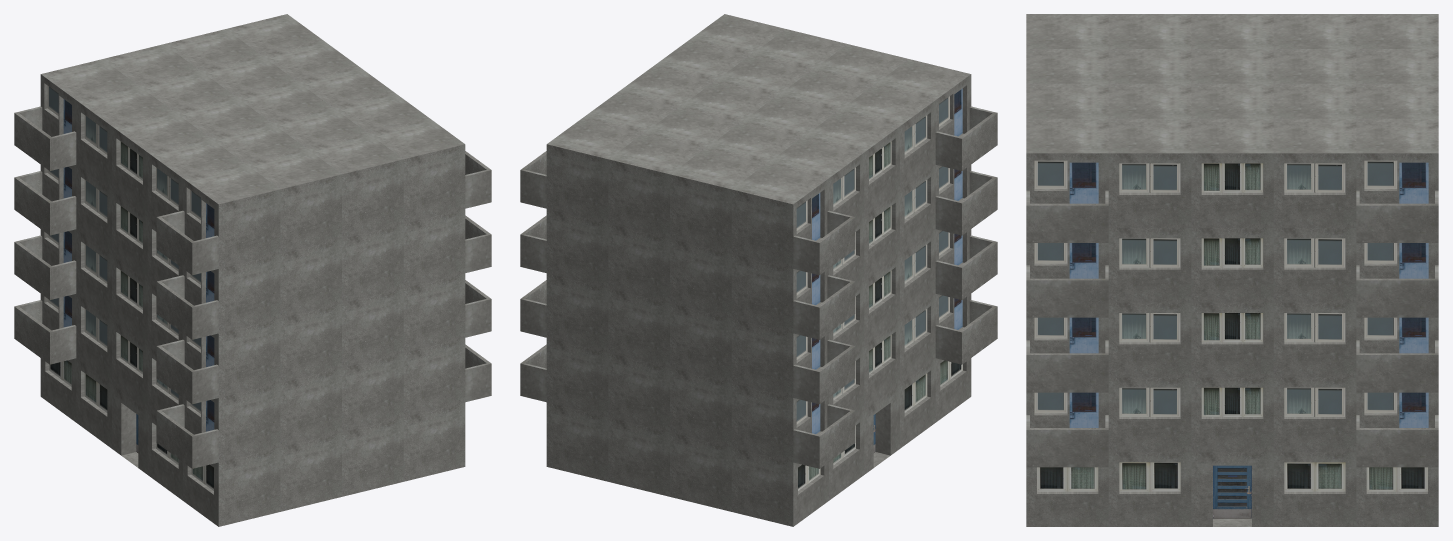
The model's file is building_9.fbx.
3 views of the same model, side by side, from view 1: azimuth 30°, elevation 25°; view 2: azimuth 150°, elevation 25°; view 3: azimuth 270°, elevation 25° (orthographic). The views are drawn at different scales.
Parts seen in each view (by area): view 1: Building_9; view 2: Building_9; view 3: Building_9.
Boxes of the visible parts, <box> form: Building_9: <box>14,14,491,526</box>; Building_9: <box>520,14,997,526</box>; Building_9: <box>1026,14,1438,526</box>.
Size of the model in its own units: 1650 by 1603 by 1650.
